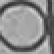no answer: (0, 0, 47, 54)
